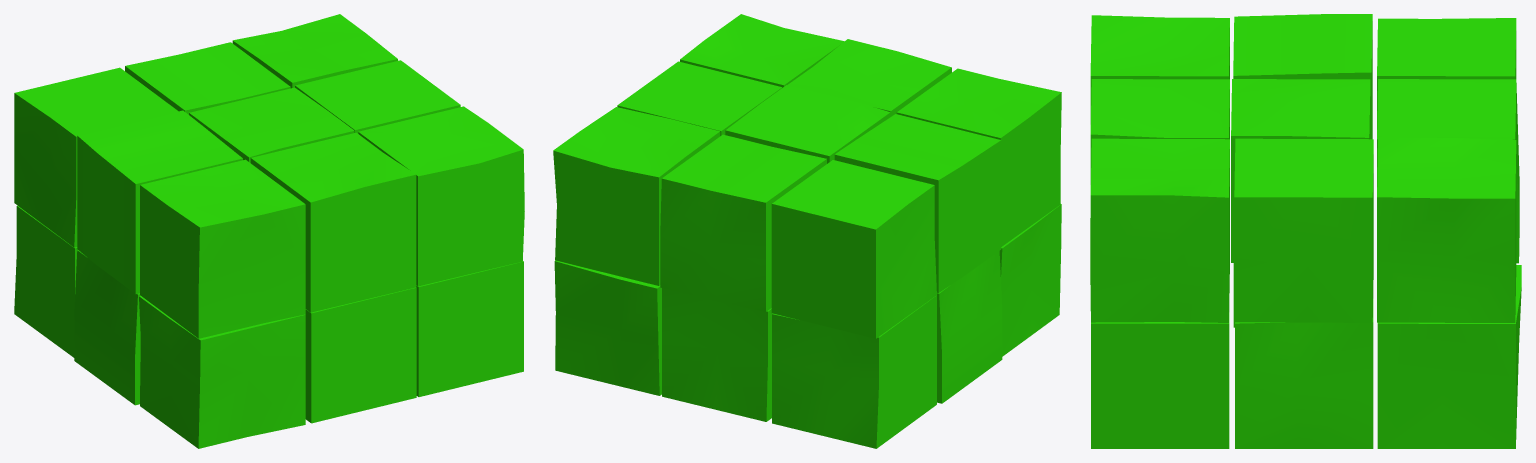
File: Cardboard_Pile_01.fbx
The picture shows the model from 3 angles, left to right: view 1: azimuth 30°, elevation 25°; view 2: azimuth 150°, elevation 25°; view 3: azimuth 270°, elevation 25°; orthographic projection. The views are drawn at different scales.
Visible parts, largest first — view 1: Cardboard_Pile_01; view 2: Cardboard_Pile_01; view 3: Cardboard_Pile_01.
Part boxes in pixels (box(x1,y1,x2,y2)): Cardboard_Pile_01: box(14, 14, 524, 448); Cardboard_Pile_01: box(553, 14, 1061, 448); Cardboard_Pile_01: box(1090, 14, 1521, 448).
Size of the model in its own units: 120 by 78.3 by 120.
